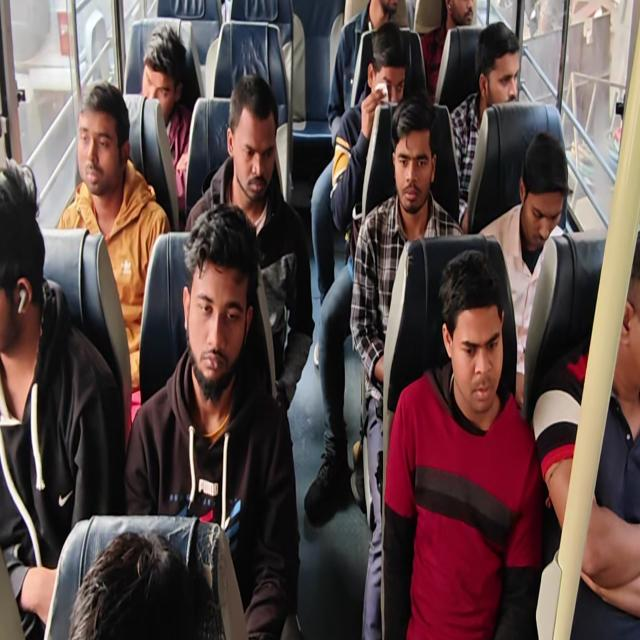person: (1, 2, 638, 638), (123, 202, 301, 638), (380, 248, 544, 638), (349, 93, 464, 638), (0, 158, 126, 638), (303, 21, 409, 522), (184, 72, 314, 414), (532, 230, 640, 638), (55, 80, 171, 410), (310, 0, 403, 305), (478, 130, 569, 410), (68, 528, 225, 638), (449, 22, 521, 230), (327, 0, 400, 148), (136, 24, 193, 213), (420, 0, 474, 103)
